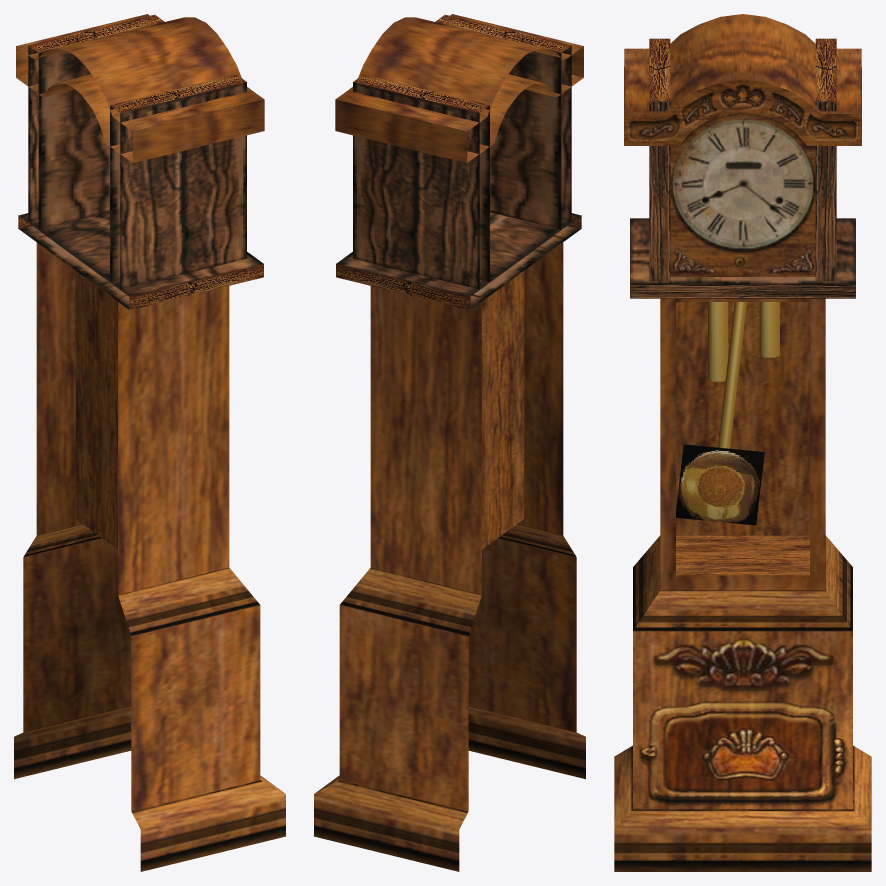
Rendered from INST_LT_GRANCLOCK.fbx.
3 views of the same model, side by side, from view 1: azimuth 30°, elevation 25°; view 2: azimuth 150°, elevation 25°; view 3: azimuth 270°, elevation 25° (orthographic).
Parts seen in each view (by area): view 1: INST_LT_GRANCLOCK; view 2: INST_LT_GRANCLOCK; view 3: INST_LT_GRANCLOCK.
Part boxes in pixels (x1,y1,x2,y2): INST_LT_GRANCLOCK: (14,14,285,871); INST_LT_GRANCLOCK: (314,14,585,871); INST_LT_GRANCLOCK: (614,14,871,871).
Bounding box in the file's own units: 3843 × 19050 × 5670.
Materials: 8 (8 with a texture image).
